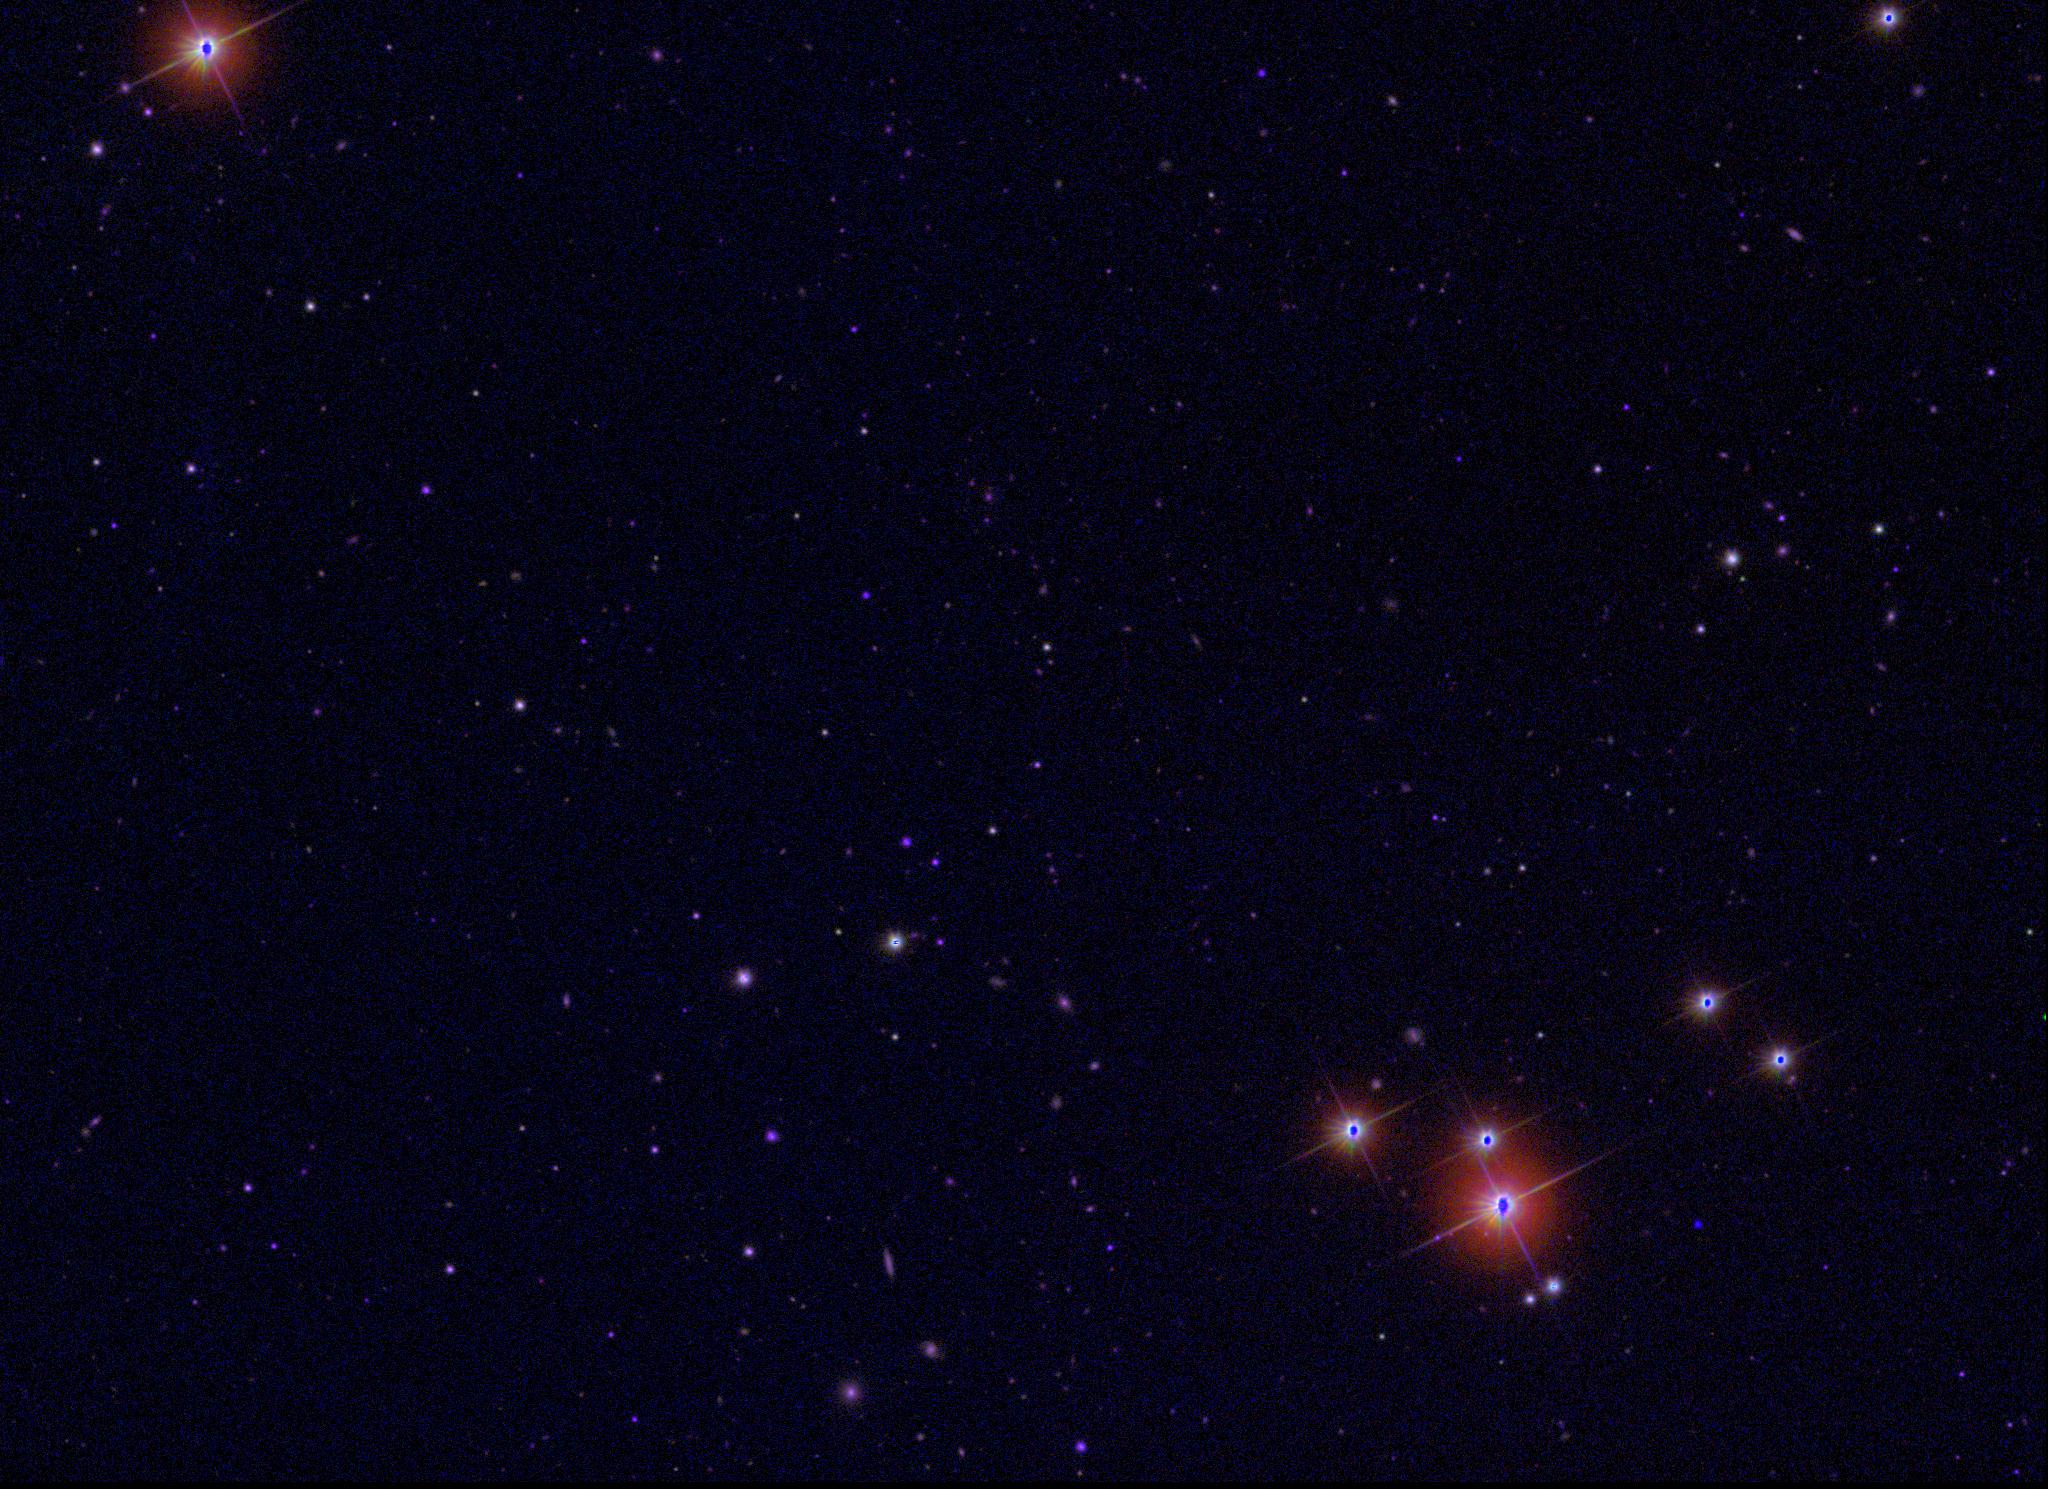L: (1690, 1219, 1705, 1231)
